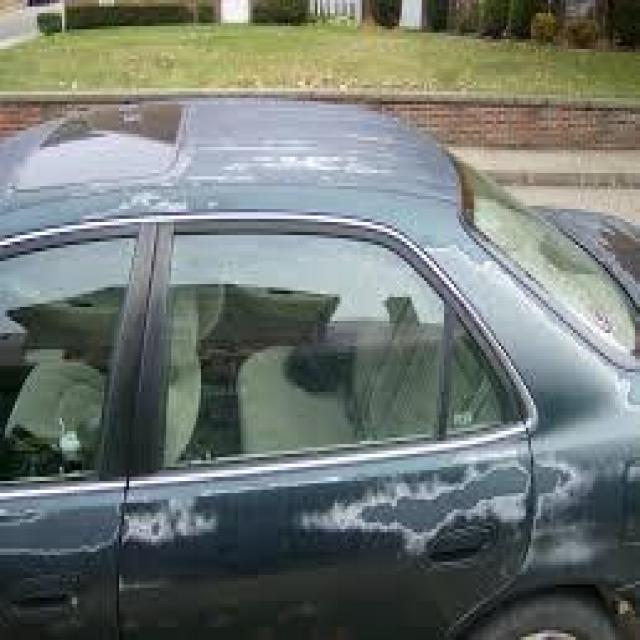damaged: (0, 464, 603, 562), (76, 190, 228, 226)
